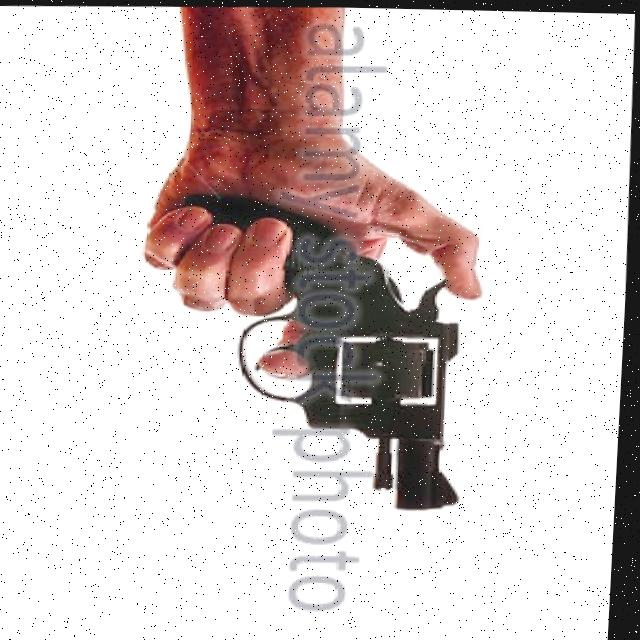pistol: (172, 183, 481, 514)
